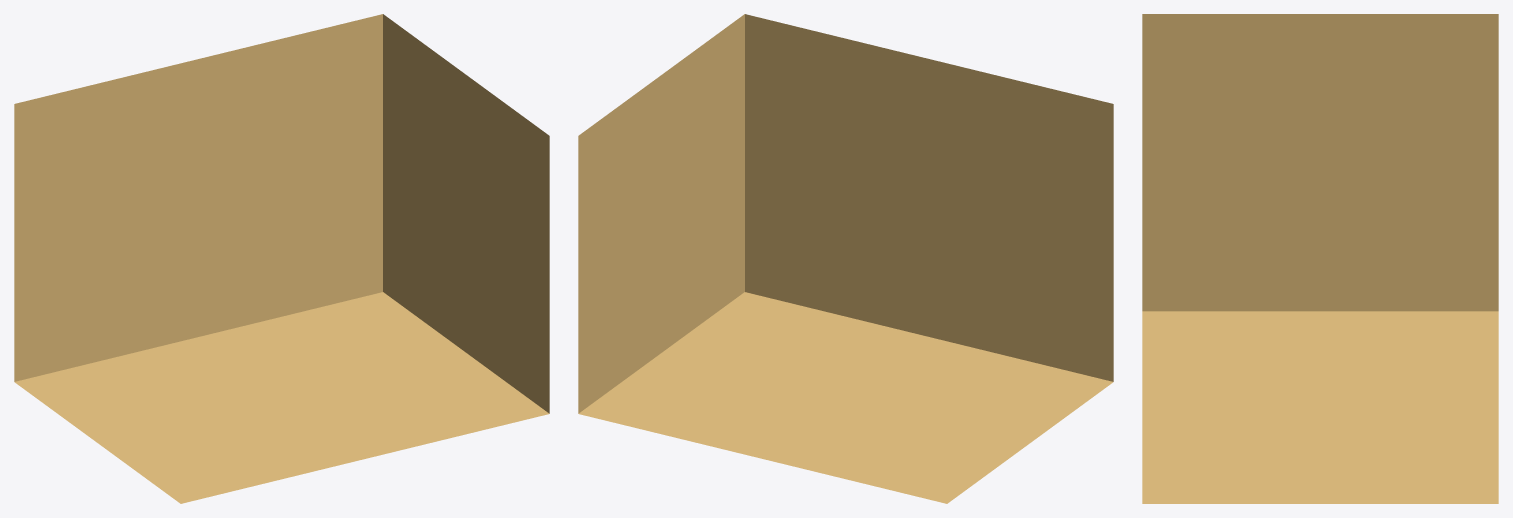
The model's file is decor-props-sacred-agni-012.glb.
3 renders of one model, left to right at view 1: azimuth 30°, elevation 25°; view 2: azimuth 150°, elevation 25°; view 3: azimuth 270°, elevation 25°, orthographic. The views are drawn at different scales.
Parts seen in each view (by area): view 1: Sacred Agni Decor Props; view 2: Sacred Agni Decor Props; view 3: Sacred Agni Decor Props.
Part boxes in pixels (box(x1,y1,x2,y2)): Sacred Agni Decor Props: box(14, 14, 549, 503); Sacred Agni Decor Props: box(578, 14, 1113, 503); Sacred Agni Decor Props: box(1142, 14, 1498, 503).
Size of the model in its own units: 2.25 by 1.62 by 1.76.
